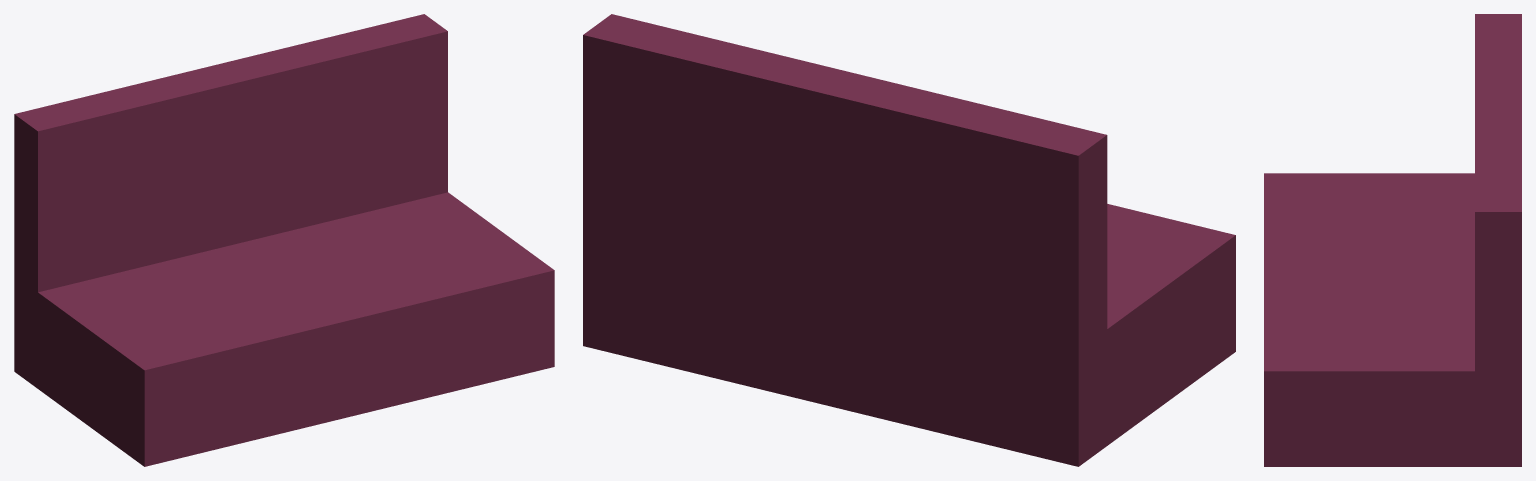
File: couch.glb
The picture shows the model from 3 angles, left to right: view 1: azimuth 30°, elevation 25°; view 2: azimuth 150°, elevation 25°; view 3: azimuth 270°, elevation 25°; orthographic projection. The views are drawn at different scales.
Parts seen in each view (by area): view 1: couch_Seat, couch_Back; view 2: couch_Back, couch_Seat; view 3: couch_Seat, couch_Back.
Part boxes in pixels (bbox=[...]): couch_Seat: bbox=[38, 192, 554, 466]; couch_Back: bbox=[14, 14, 447, 388]; couch_Back: bbox=[583, 14, 1107, 466]; couch_Seat: bbox=[1107, 204, 1235, 445]; couch_Seat: bbox=[1264, 173, 1474, 466]; couch_Back: bbox=[1475, 14, 1521, 466].
Size of the model in its own units: 2 by 1.2 by 1.1.
